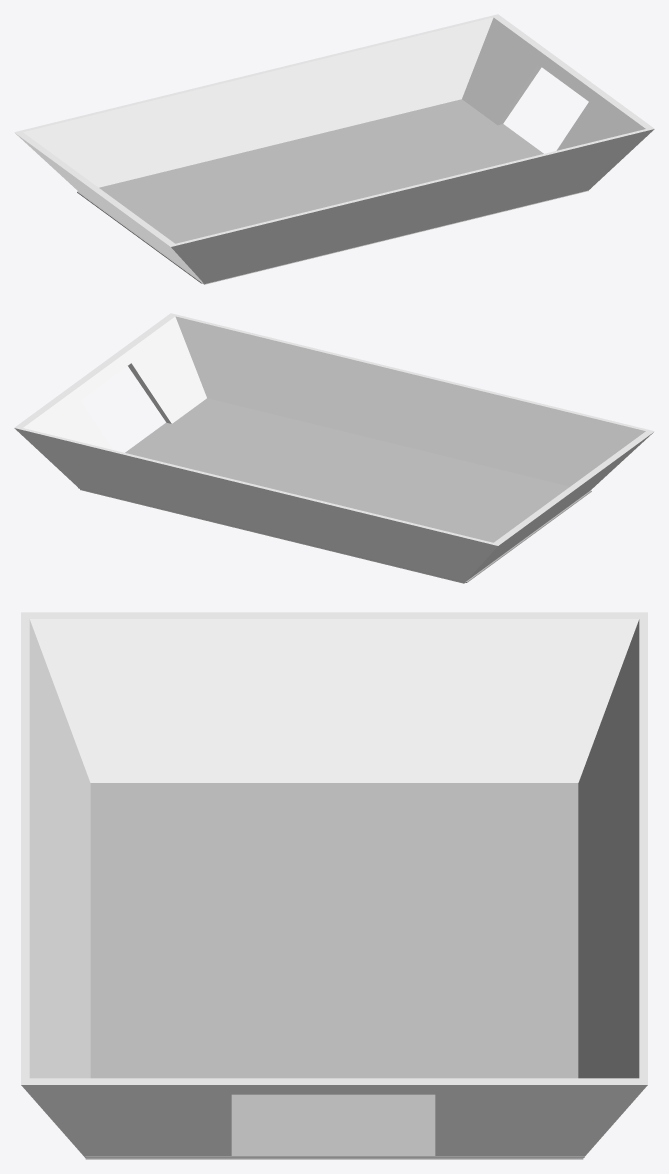
File: Left.fbx
3 renders of one model, top to bottom at view 1: azimuth 30°, elevation 25°; view 2: azimuth 150°, elevation 25°; view 3: azimuth 270°, elevation 25°, orthographic. The views are drawn at different scales.
Visible parts, largest first — view 1: Room11, Piso1; view 2: Room11, Piso1; view 3: Room11, Piso1.
Part boxes in pixels (bbox=[...]): Room11: bbox=[14, 14, 654, 284]; Piso1: bbox=[77, 99, 543, 283]; Room11: bbox=[14, 313, 654, 583]; Piso1: bbox=[78, 398, 591, 582]; Room11: bbox=[21, 612, 647, 1159]; Piso1: bbox=[85, 783, 584, 1157].
Bounding box in the file's own units: 4100 × 500 × 2300.
